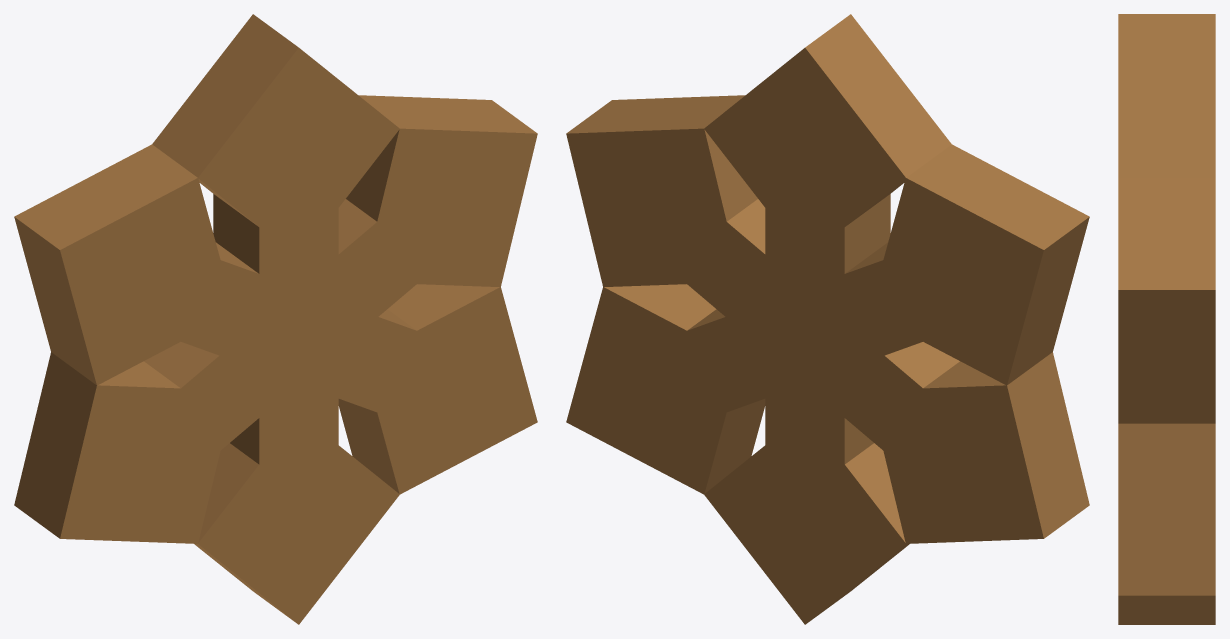
Rendered from emblem_frost.fbx.
3 views of the same model, side by side, from view 1: azimuth 30°, elevation 25°; view 2: azimuth 150°, elevation 25°; view 3: azimuth 270°, elevation 25° (orthographic). The views are drawn at different scales.
Parts seen in each view (by area): view 1: Emblem; view 2: Emblem; view 3: Emblem.
Boxes of the visible parts, left/top/right/bottom form: Emblem: left=14, top=14, right=537, bottom=624; Emblem: left=566, top=14, right=1089, bottom=624; Emblem: left=1118, top=14, right=1215, bottom=624.
Bounding box in the file's own units: 30.08 × 34.73 × 5.
